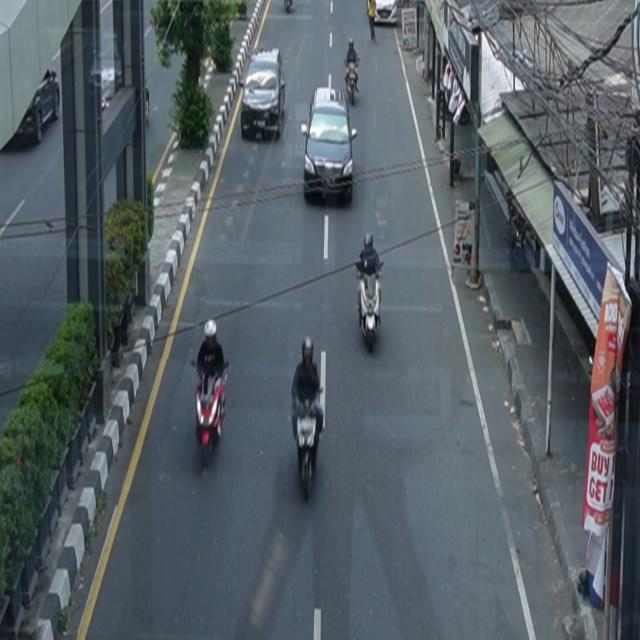car: (302, 86, 359, 206), (241, 48, 287, 142), (373, 1, 399, 27)
